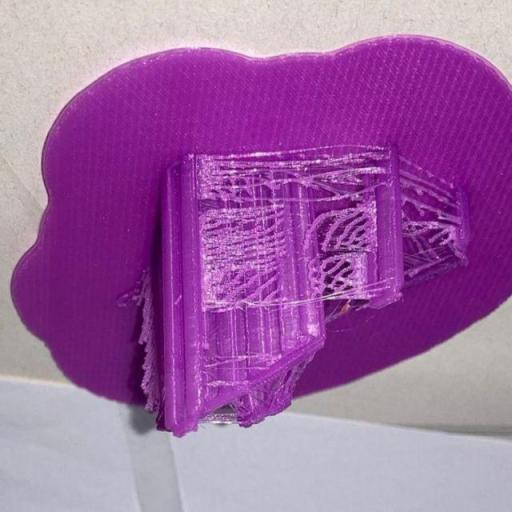stringing: (208, 210, 274, 300), (194, 150, 276, 206), (300, 148, 386, 198), (404, 167, 456, 236), (311, 244, 374, 298), (302, 208, 380, 248)
